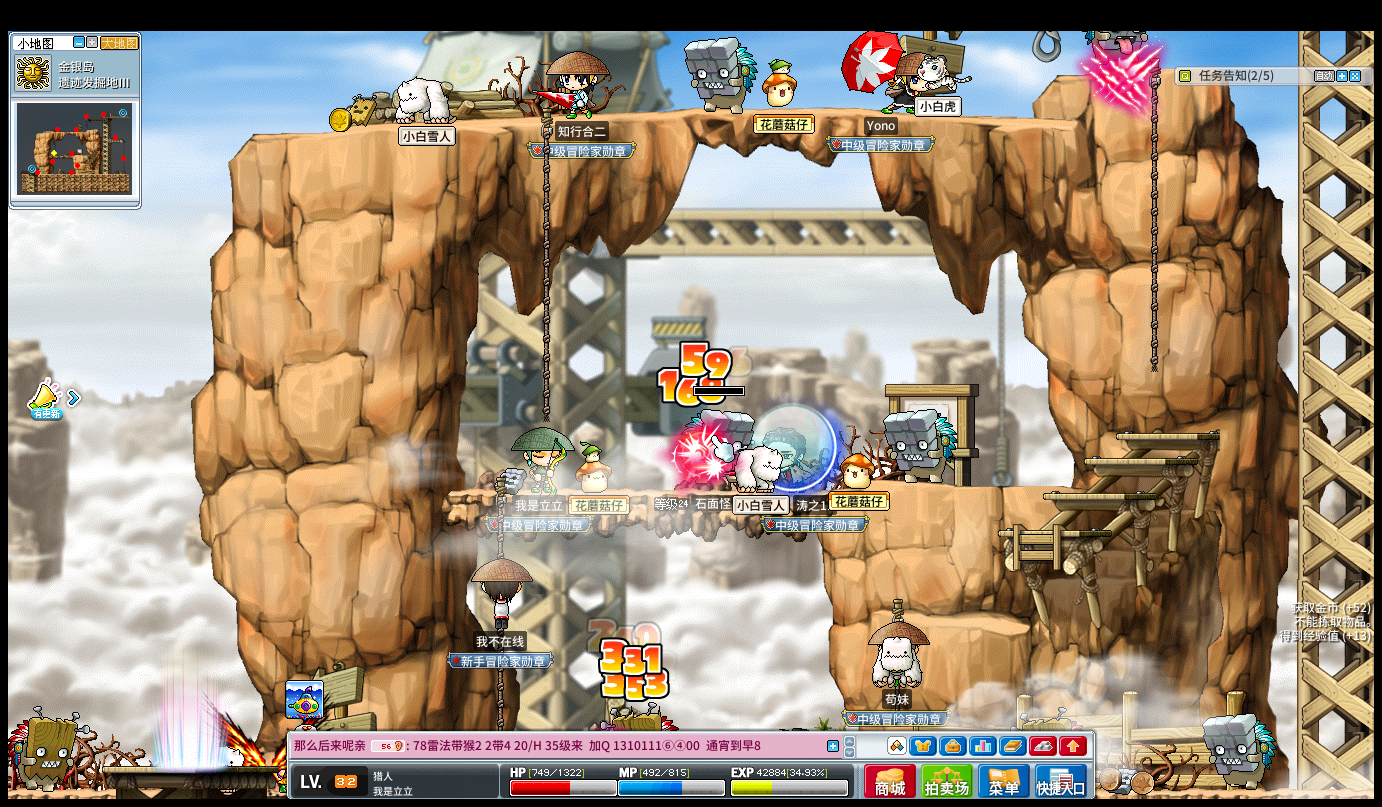floor: (230, 105, 1092, 139), (449, 488, 824, 499), (924, 613, 1029, 634), (910, 482, 1076, 493), (1114, 429, 1221, 441), (1077, 455, 1194, 464), (1042, 492, 1154, 500), (996, 528, 1108, 536)
monster: (7, 709, 89, 791), (674, 406, 751, 488), (682, 34, 756, 113), (883, 408, 956, 484), (1203, 713, 1276, 789), (1087, 28, 1158, 103), (675, 407, 753, 453)
rope: (1146, 69, 1160, 377), (540, 109, 550, 424), (488, 483, 501, 561), (493, 668, 504, 722)
